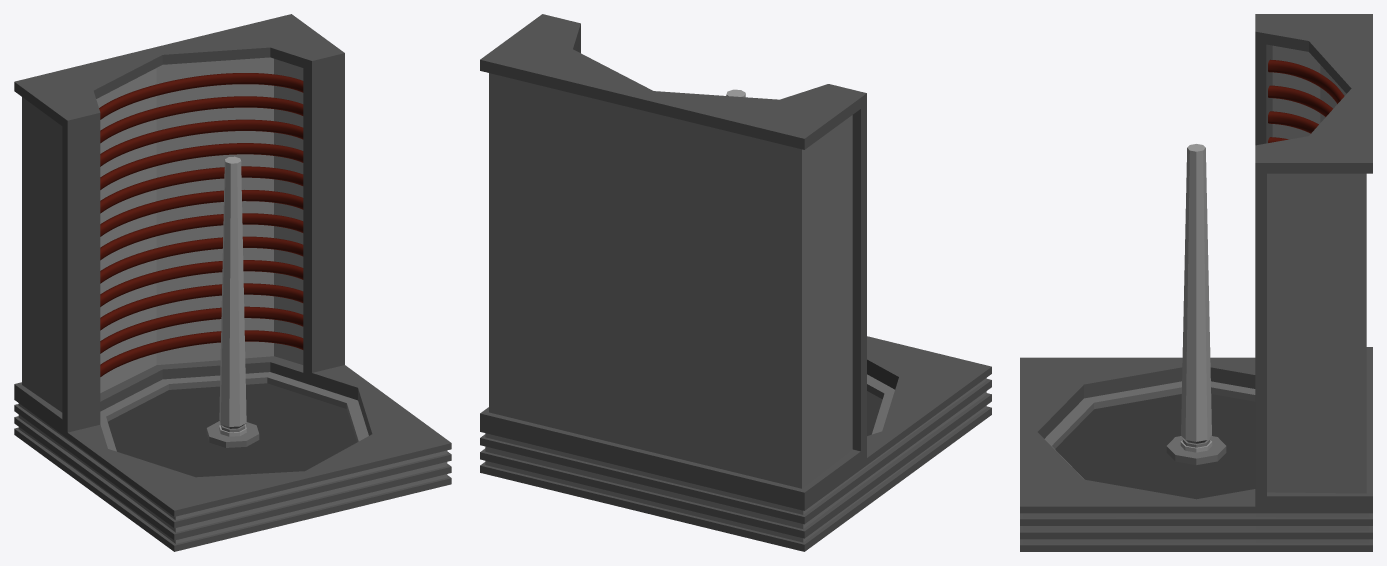
Rendered from Rotisserie #2.fbx.
The picture shows the model from 3 angles, left to right: view 1: azimuth 30°, elevation 25°; view 2: azimuth 150°, elevation 25°; view 3: azimuth 270°, elevation 25°; orthographic projection. The views are drawn at different scales.
Visible parts, largest first — view 1: Rotisserie #2; view 2: Rotisserie #2; view 3: Rotisserie #2.
Part boxes in pixels (x1,y1,x2,y2): Rotisserie #2: [14, 14, 451, 551]; Rotisserie #2: [480, 14, 991, 551]; Rotisserie #2: [1020, 14, 1372, 551].
Bounding box in the file's own units: 58.16 × 70.74 × 58.16.
1 material, 1 textured.
